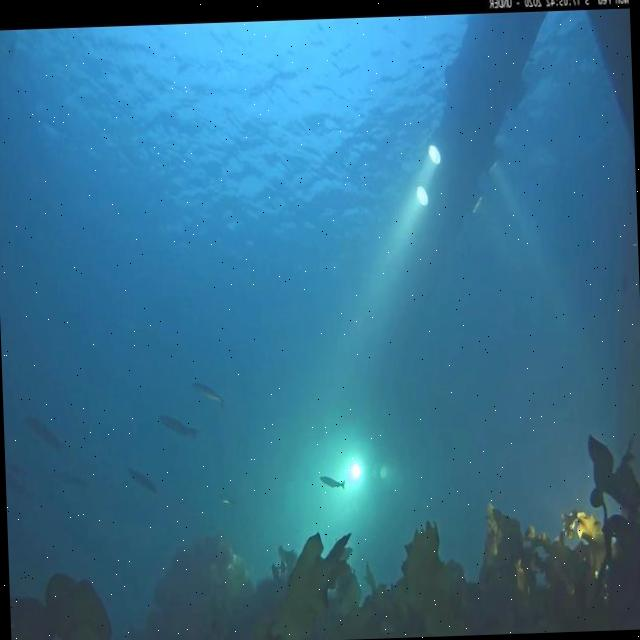fish: (23, 417, 63, 455), (192, 380, 224, 408), (128, 463, 156, 495), (160, 418, 197, 442), (54, 471, 86, 494), (320, 476, 346, 490), (217, 492, 234, 506)
